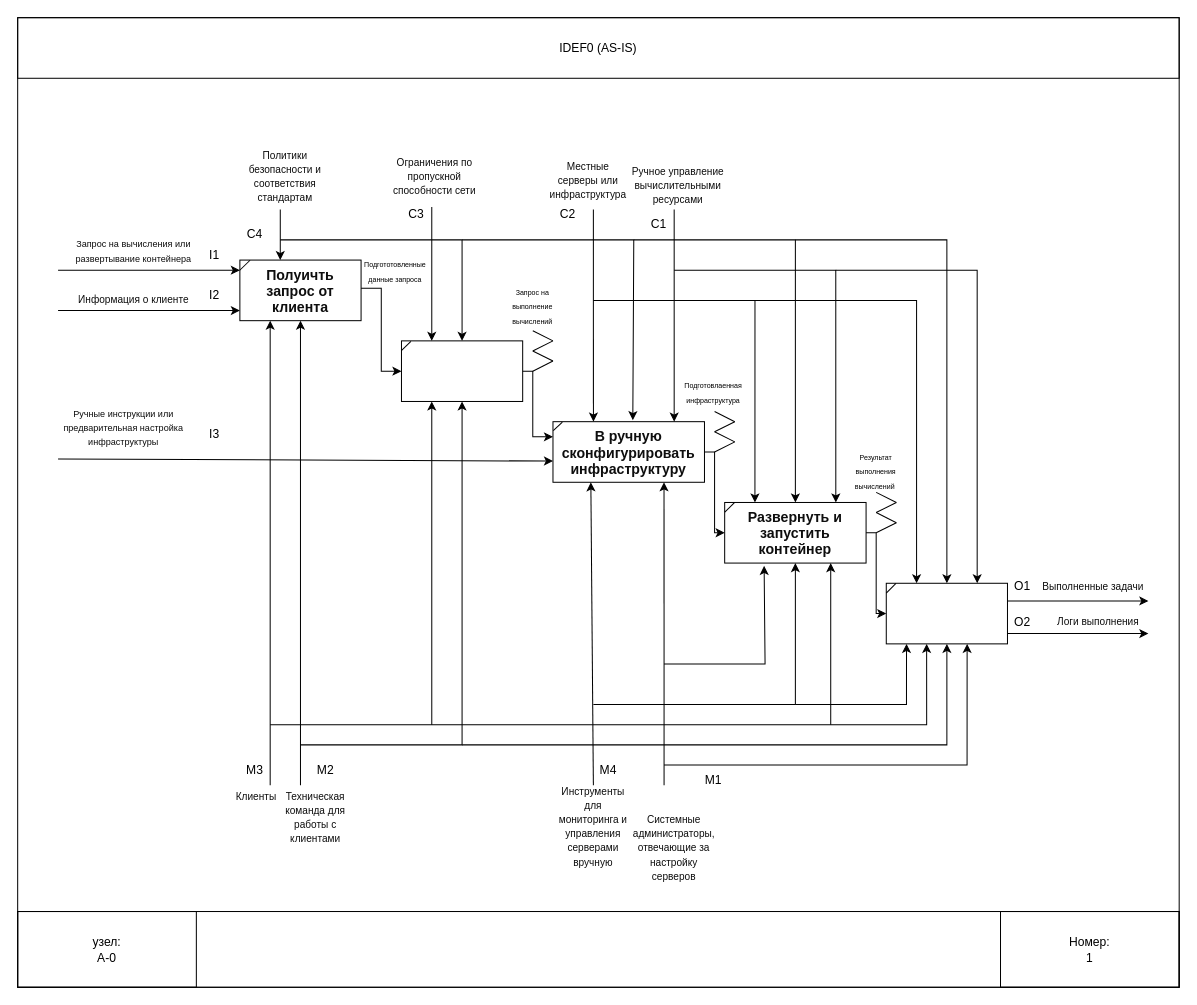
Some shapes in this 1197 by 1005 pixel diagram are drawn without their labels. The shapes that lost their labels are listed below. From the top down, each one's box as (x1, y1, x2, y2) in pixels, then its label:
(400, 340, 523, 401): Проанализировать запрос
(885, 582, 1007, 644): Сбрать и отправить результаты клиенту
(17, 911, 1179, 987): Заголовок: Выполнение вычислений на удаленном сервере
